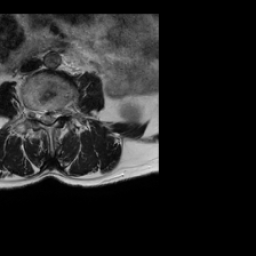CCS_severe_stenosis: (45, 106, 52, 128)
LFS_normal: (58, 104, 64, 122)
LLS_normal: (52, 106, 57, 125)
RFS_normal: (32, 104, 39, 125)
RLS_normal: (38, 106, 45, 125)
